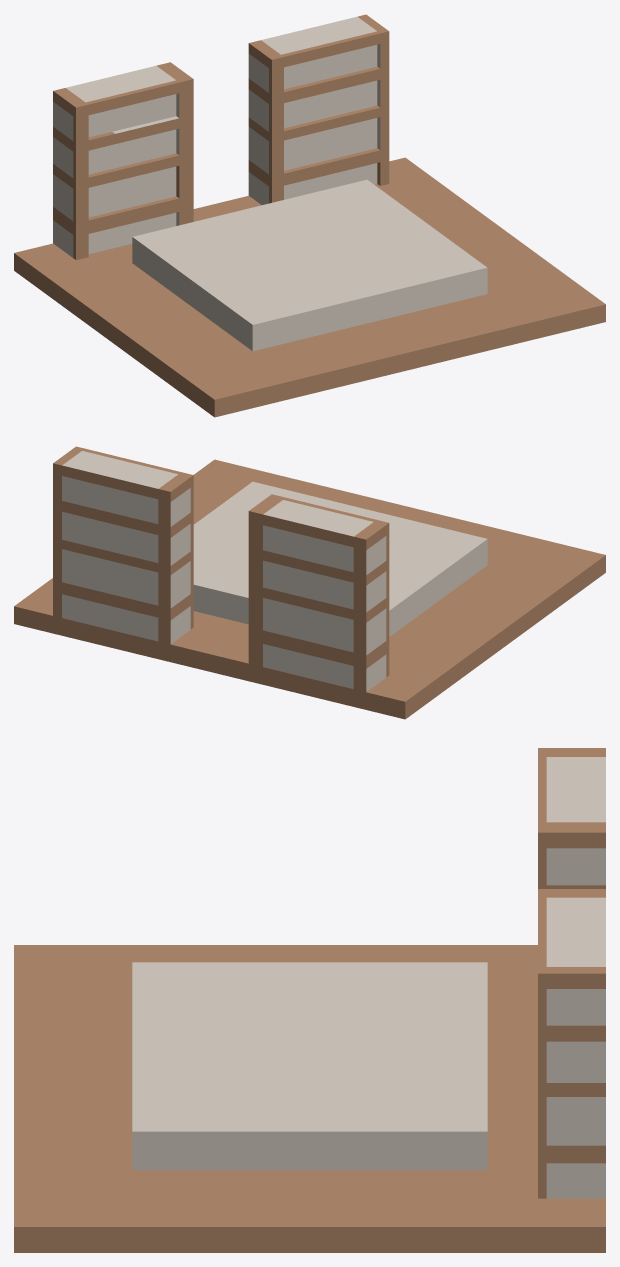
Rendered from Tutorial Stage.fbx.
The picture shows the model from 3 angles, top to bottom: view 1: azimuth 30°, elevation 25°; view 2: azimuth 150°, elevation 25°; view 3: azimuth 270°, elevation 25°; orthographic projection. The views are drawn at different scales.
Parts seen in each view (by area): view 1: pCube1; view 2: pCube1; view 3: pCube1.
Part boxes in pixels (x1,y1,x2,y2): pCube1: (14,14,605,417); pCube1: (14,446,605,719); pCube1: (14,748,605,1252).
Bounding box in the file's own units: 37.28 × 15.5 × 33.1.
